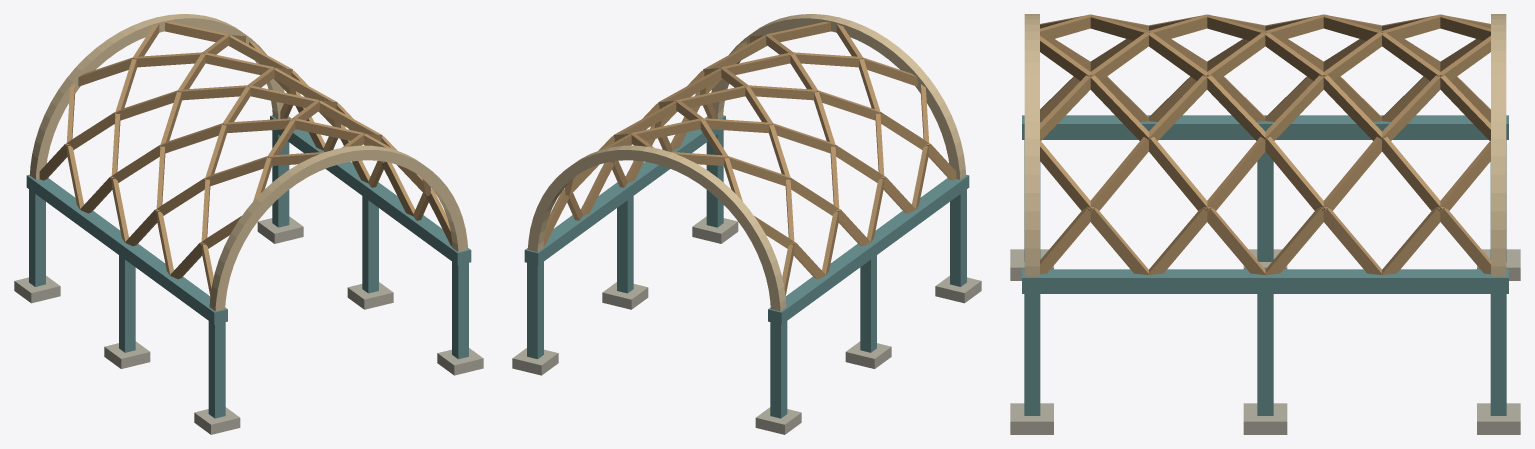
3 renders of one model, left to right at view 1: azimuth 30°, elevation 25°; view 2: azimuth 150°, elevation 25°; view 3: azimuth 270°, elevation 25°, orthographic. The views are drawn at different scales.
Visible parts, largest first — view 1: WholeOpenEndArchRib0, WholeLongitudinalEaveBearer0, WholeOpenEndArchRib1, WholeLongitudinalEaveBearer1, WholePerimeterColumn00, WholePerimeterColumn10, WholePerimeterColumn11, WholePerimeterColumn01, WholePerimeterColumn02, WholePerimeterColumn12, WholeColumnGroundFoot00, WholeColumnGroundFoot01 (+27 smaller); view 2: WholeOpenEndArchRib1, WholeLongitudinalEaveBearer0, WholeOpenEndArchRib0, WholeLongitudinalEaveBearer1, WholePerimeterColumn02, WholePerimeterColumn12, WholePerimeterColumn11, WholePerimeterColumn00, WholePerimeterColumn01, WholePerimeterColumn10, WholeColumnGroundFoot01, WholeColumnGroundFoot02 (+27 smaller); view 3: WholeLongitudinalEaveBearer1, WholeLongitudinalEaveBearer0, WholeOpenEndArchRib0, WholeOpenEndArchRib1, WholePerimeterColumn10, WholePerimeterColumn11, WholePerimeterColumn12, WholePerimeterColumn01, WholeColumnGroundFoot11, WholeColumnGroundFoot10, WholeColumnGroundFoot12, WholeShortLamella_6_4_1 (+49 smaller).
Boxes of the visible parts, x1,y1,x2,y2 form: WholeOpenEndArchRib0: [209, 145, 467, 311]; WholeLongitudinalEaveBearer0: [26, 174, 227, 324]; WholeOpenEndArchRib1: [30, 14, 288, 179]; WholeLongitudinalEaveBearer1: [270, 115, 471, 265]; WholePerimeterColumn00: [208, 321, 225, 418]; WholePerimeterColumn10: [452, 261, 468, 359]; WholePerimeterColumn11: [362, 196, 378, 293]; WholePerimeterColumn01: [119, 255, 135, 352]; WholePerimeterColumn02: [29, 189, 45, 286]; WholePerimeterColumn12: [272, 130, 289, 227]; WholeColumnGroundFoot00: [194, 407, 240, 434]; WholeColumnGroundFoot01: [104, 341, 150, 368]; WholeOpenEndArchRib1: [528, 145, 786, 311]; WholeLongitudinalEaveBearer0: [768, 174, 969, 324]; WholeOpenEndArchRib0: [707, 14, 965, 179]; WholeLongitudinalEaveBearer1: [524, 115, 725, 265]; WholePerimeterColumn02: [770, 321, 787, 418]; WholePerimeterColumn12: [527, 261, 543, 359]; WholePerimeterColumn11: [617, 196, 633, 293]; WholePerimeterColumn00: [950, 189, 966, 286]; WholePerimeterColumn01: [860, 255, 876, 352]; WholePerimeterColumn10: [706, 130, 723, 227]; WholeColumnGroundFoot01: [845, 341, 891, 368]; WholeColumnGroundFoot02: [755, 407, 801, 434]; WholeLongitudinalEaveBearer1: [1022, 269, 1508, 293]; WholeLongitudinalEaveBearer0: [1022, 115, 1508, 139]; WholeOpenEndArchRib0: [1024, 14, 1039, 276]; WholeOpenEndArchRib1: [1491, 14, 1506, 276]; WholePerimeterColumn10: [1024, 294, 1040, 415]; WholePerimeterColumn11: [1257, 294, 1273, 415]; WholePerimeterColumn12: [1490, 294, 1506, 415]; WholePerimeterColumn01: [1257, 152, 1273, 261]; WholeColumnGroundFoot11: [1243, 403, 1287, 434]; WholeColumnGroundFoot10: [1010, 403, 1053, 434]; WholeColumnGroundFoot12: [1477, 403, 1520, 434]; WholeShortLamella_6_4_1: [1265, 136, 1327, 211].
Bounding box in the file's own units: 5.6 × 4.8 × 7.
